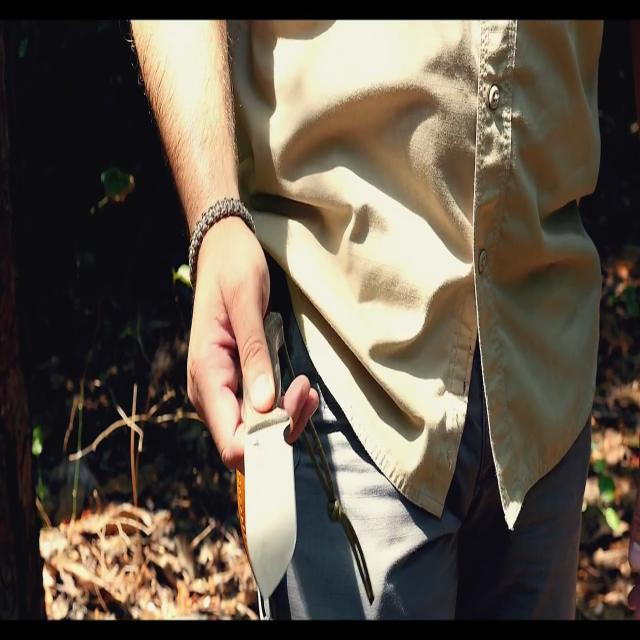knife: (240, 306, 290, 601)
